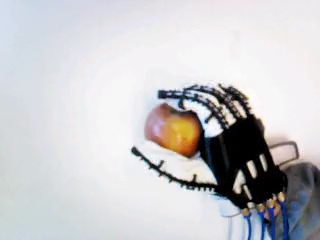apple: (142, 100, 202, 160)
hand: (129, 82, 282, 216)
